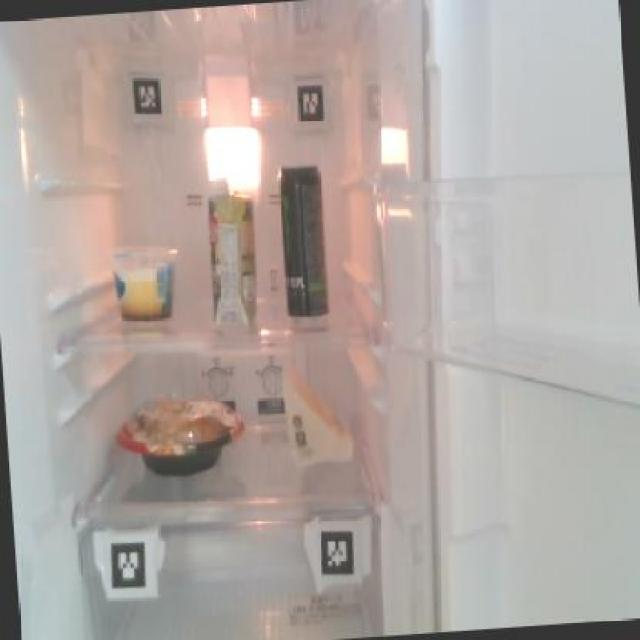bento: (112, 394, 245, 481)
energy_drink: (276, 162, 330, 320)
pudding: (108, 241, 181, 324)
sandwich: (278, 356, 358, 469)
smoothie: (202, 174, 263, 329)
